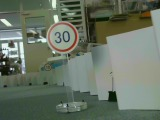speed_30: (45, 21, 79, 54)
